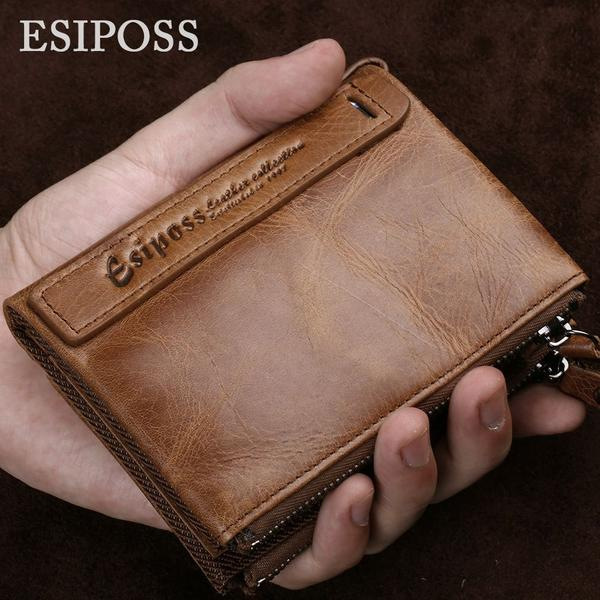monedero: (1, 54, 599, 597)
